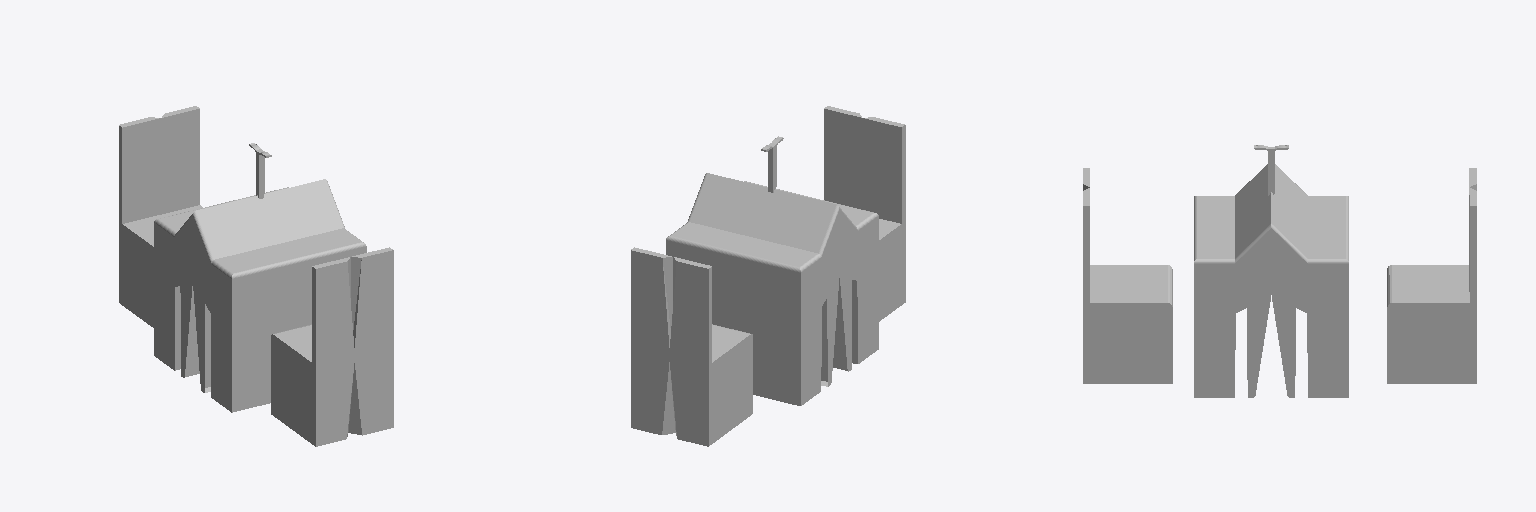
Rendered from Mesa Biblioteca.obj.
3 renders of one model, left to right at view 1: azimuth 30°, elevation 25°; view 2: azimuth 150°, elevation 25°; view 3: azimuth 270°, elevation 25°, orthographic.
Parts seen in each view (by area): view 1: Mesa, Sillas; view 2: Mesa, Sillas; view 3: Mesa, Sillas.
Boxes of the visible parts, <box> form: Mesa: <box>154,143,366,412</box>; Sillas: <box>119,106,393,446</box>; Mesa: <box>666,136,878,405</box>; Sillas: <box>631,106,905,446</box>; Mesa: <box>1194,145,1348,397</box>; Sillas: <box>1083,168,1476,383</box>.
Bounding box in the file's own units: 3.47 × 5.38 × 8.78.